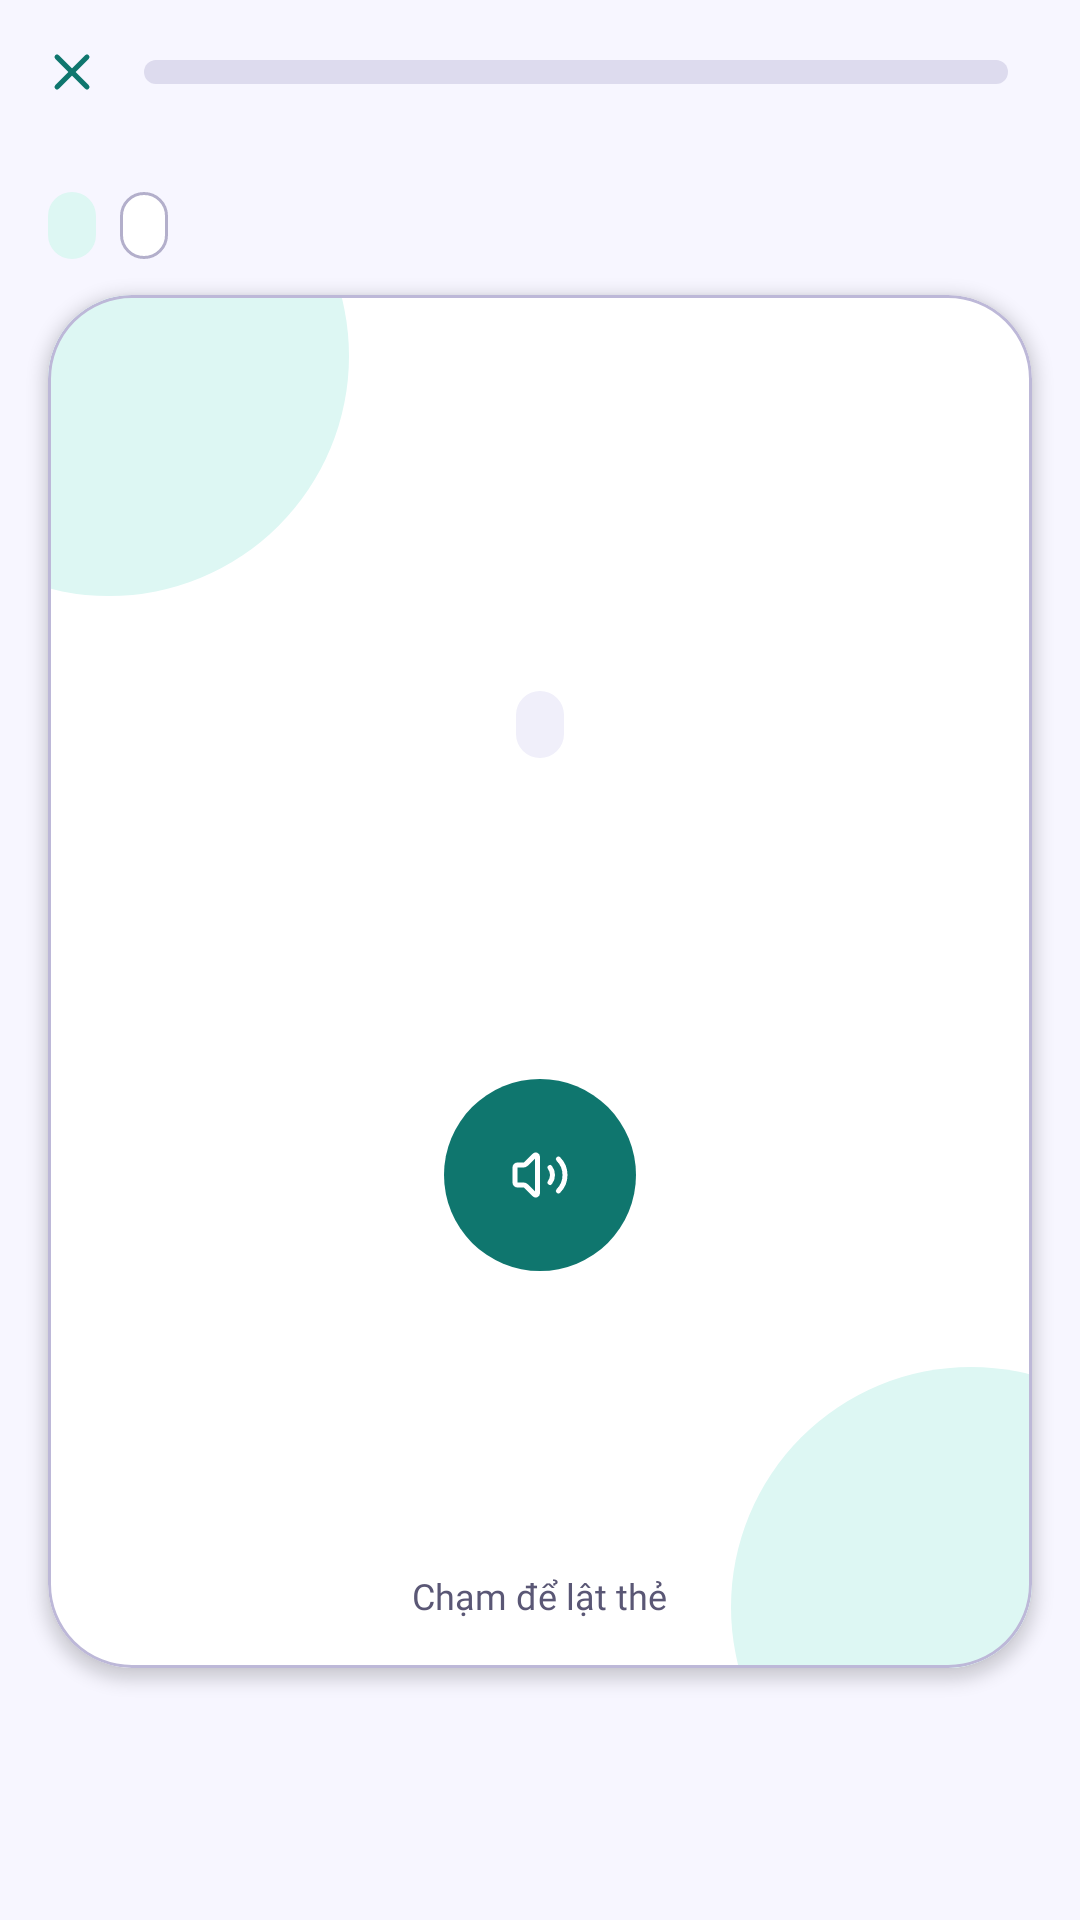

Screen size 1080w x 1920h. Icon name, then its box in pixels as (x1, y1, x2, y2):
Phát âm: (444, 1079, 636, 1271)
Đóng: (54, 54, 90, 90)
